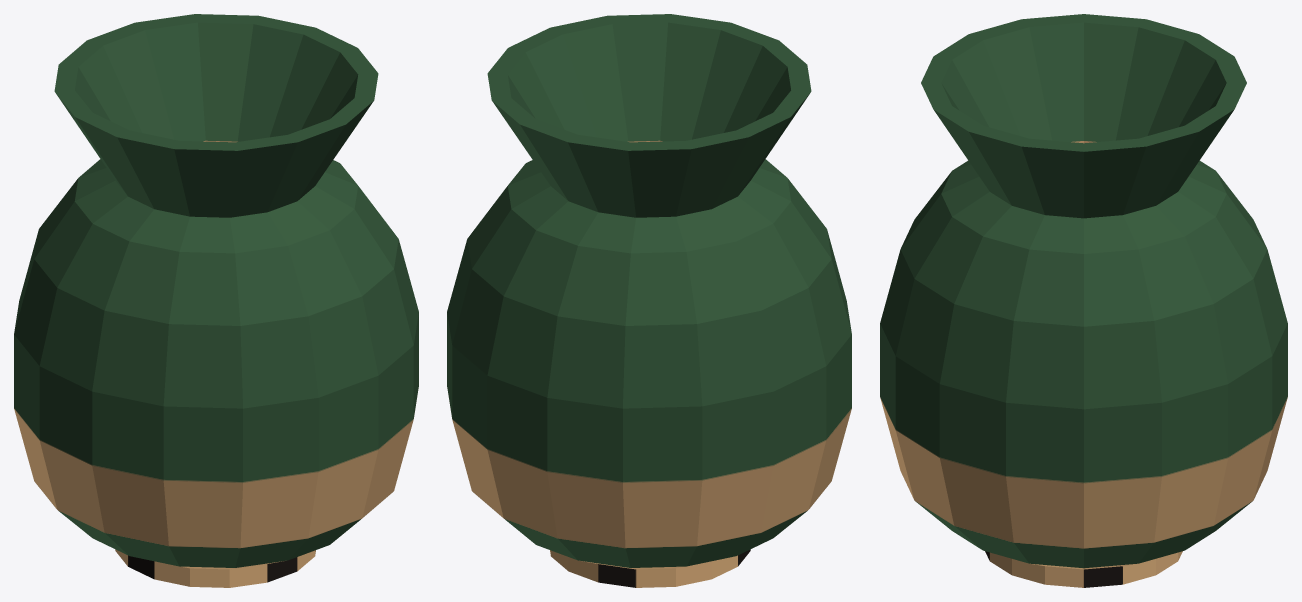
The model's file is PotFive.fbx.
3 views of the same model, side by side, from view 1: azimuth 30°, elevation 25°; view 2: azimuth 150°, elevation 25°; view 3: azimuth 270°, elevation 25° (orthographic).
Parts seen in each view (by area): view 1: Cube; view 2: Cube; view 3: Cube.
Part boxes in pixels (x1,y1,x2,y2): Cube: (14,14,418,587); Cube: (447,14,851,587); Cube: (880,14,1287,587).
Size of the model in its own units: 2 by 2.5 by 2.
